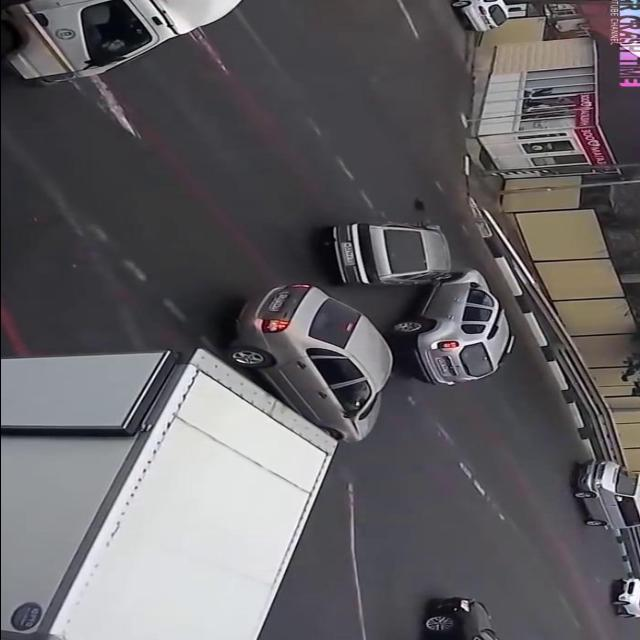accident: (309, 199, 515, 399)
